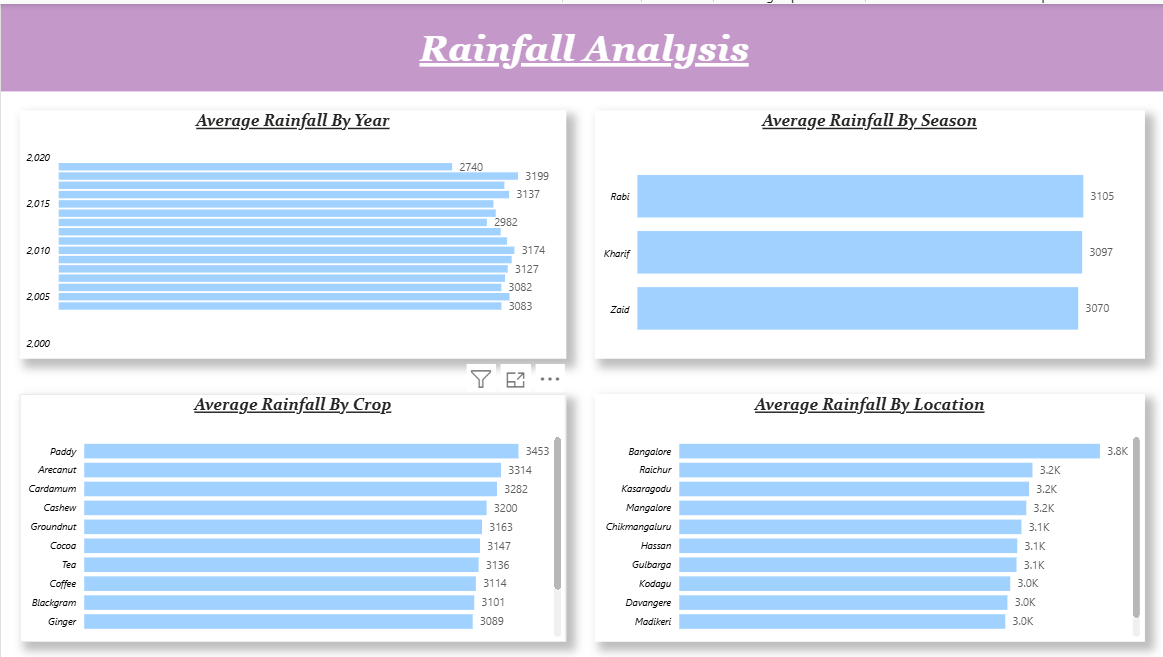

The page's visual inventory and layout, read from the dashboard file:
{"tool":"powerbi","page":{"name":"Rainfall Analysis","canvas":[1280,720],"ordinal":0},"visuals":[{"type":"shape","box":[0,0,1280.3,96.1],"z":0},{"type":"barChart","title":"Average Rainfall By Year","fields":{"Y":["Avg(AGRICULTURE.RAINFALL)"],"Category":["AGRICULTURE.YEAR"]},"box":[20.6,116.6,599.7,273.1],"z":1},{"type":"barChart","title":"Average Rainfall By Season","fields":{"Y":["Avg(AGRICULTURE.RAINFALL)"],"Category":["AGRICULTURE.SEASON"]},"box":[651.8,116.6,603.8,273.1],"z":2},{"type":"barChart","title":"Average Rainfall By Crop ","fields":{"Y":["Avg(AGRICULTURE.RAINFALL)"],"Category":["AGRICULTURE.CROPS"]},"box":[20.6,428.1,599.7,271.7],"z":3},{"type":"barChart","title":"Average Rainfall By Location ","fields":{"Y":["Avg(AGRICULTURE.RAINFALL)"],"Category":["AGRICULTURE.LOCATION"]},"box":[651.8,428.1,603.8,271.7],"z":4}]}

Visuals, with their boxes in screenshot pixels (x1, y1, x2, y2), scaled from the page's 1280x720 canvas onto the 1163x657 screenshot:
shape: BBox(0, 0, 1162, 88)
"Average Rainfall By Year" barChart: BBox(19, 106, 564, 356)
"Average Rainfall By Season" barChart: BBox(592, 106, 1141, 356)
"Average Rainfall By Crop " barChart: BBox(19, 391, 564, 639)
"Average Rainfall By Location " barChart: BBox(592, 391, 1141, 639)
